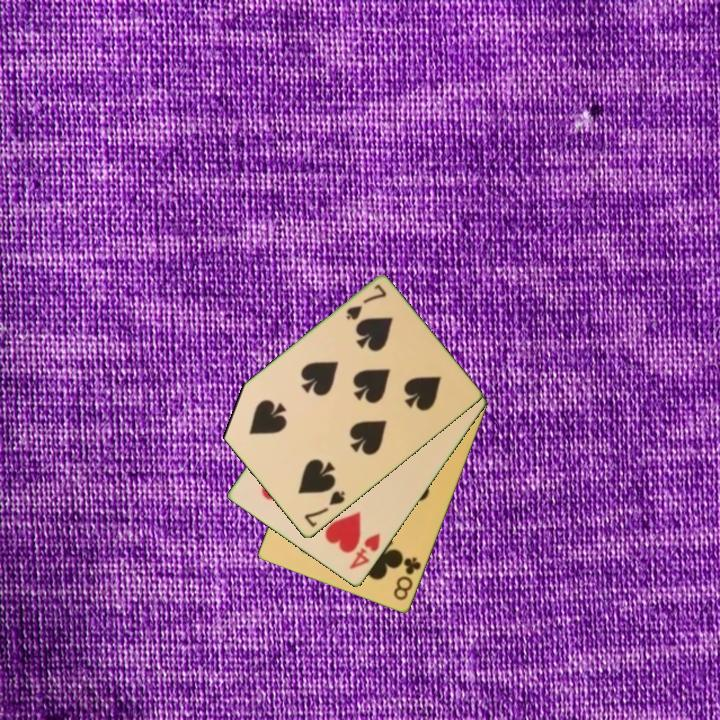4h: (345, 530, 383, 572)
7s: (301, 488, 348, 531), (342, 281, 389, 324)
8c: (390, 554, 424, 604)
